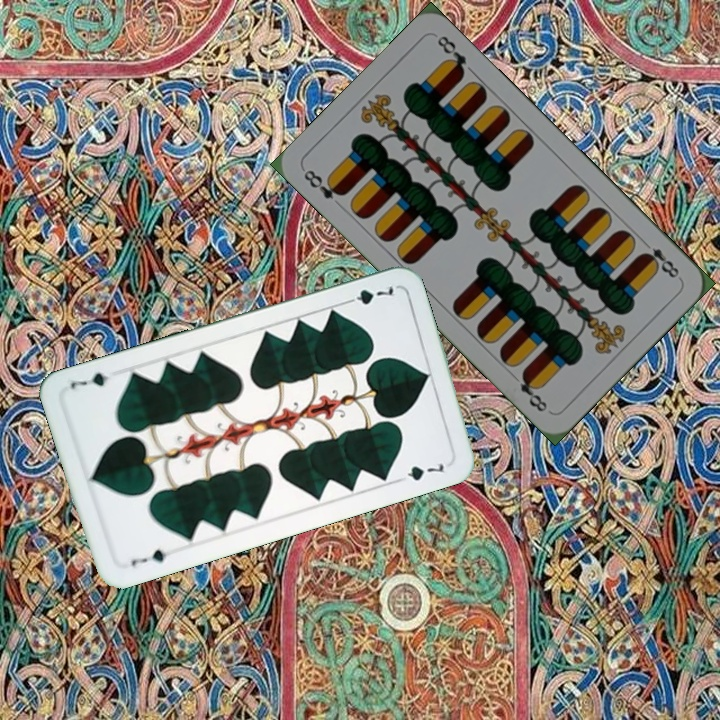E8: (637, 235, 682, 281), (299, 165, 348, 202)
G7: (340, 281, 398, 307), (126, 545, 169, 569)
